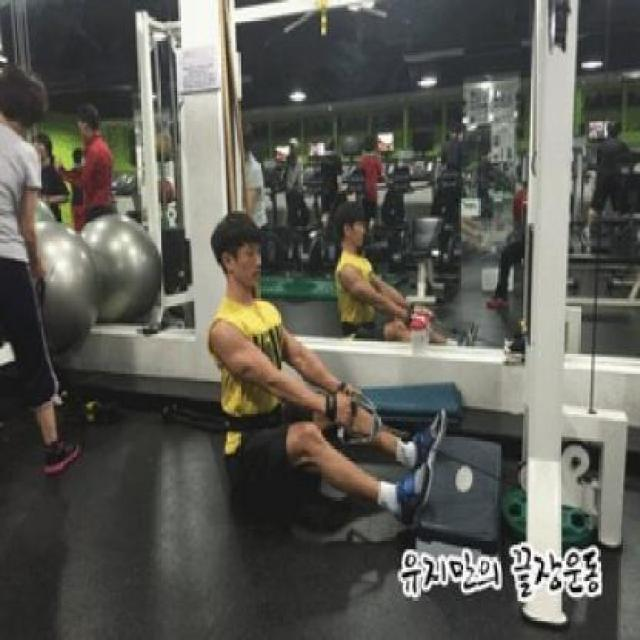Seated Cable Rows: (169, 4, 640, 640)
